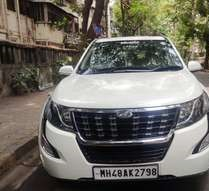MH48AK2798: (93, 165, 157, 179)
